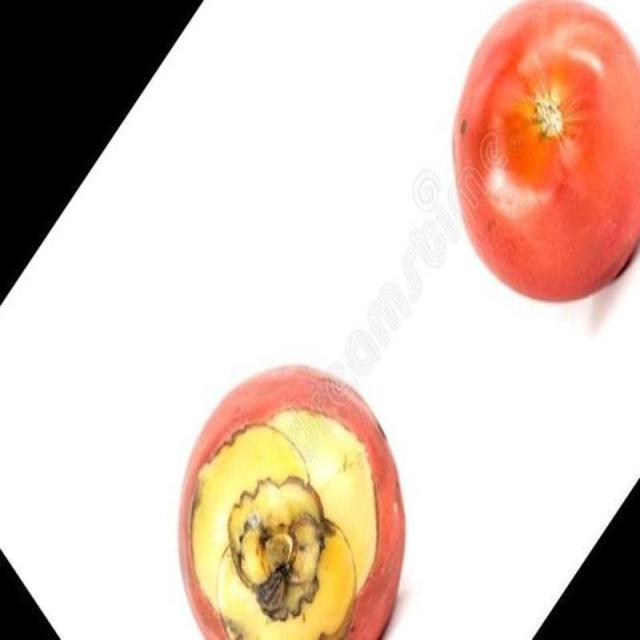good: (178, 370, 407, 639), (451, 0, 639, 305)
